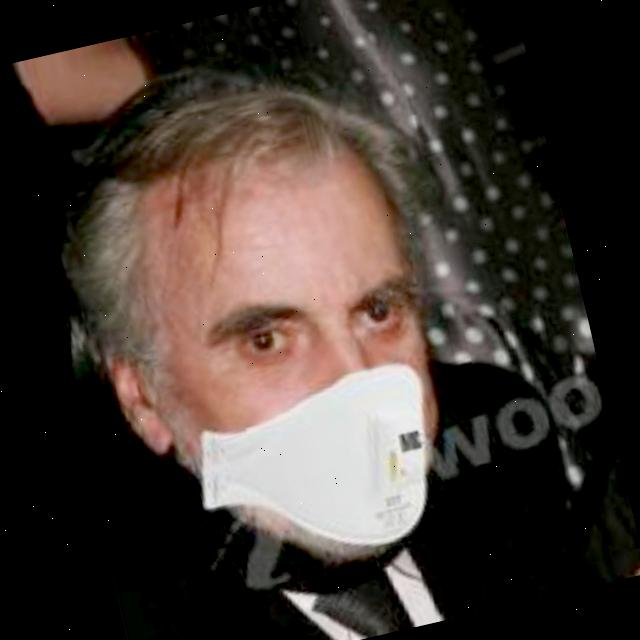suspicion: (44, 84, 492, 604)
